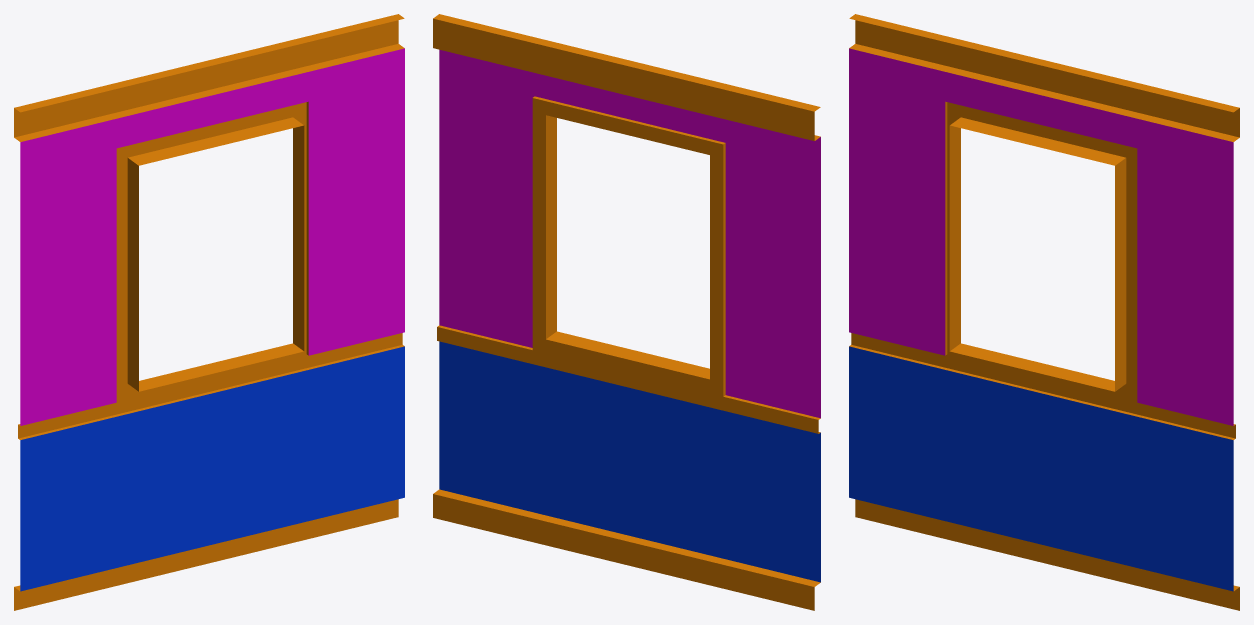
The model's file is Unit_Window.fbx.
The picture shows the model from 3 angles, left to right: view 1: azimuth 30°, elevation 25°; view 2: azimuth 150°, elevation 25°; view 3: azimuth 330°, elevation 25°; orthographic projection.
Visible parts, largest first — view 1: Unit_Window; view 2: Unit_Window; view 3: Unit_Window.
Part boxes in pixels (x1,y1,x2,y2): Unit_Window: [14, 14, 404, 610]; Unit_Window: [433, 14, 820, 610]; Unit_Window: [849, 14, 1239, 610].
Bounding box in the file's own units: 2 × 2.5 × 0.1369.
